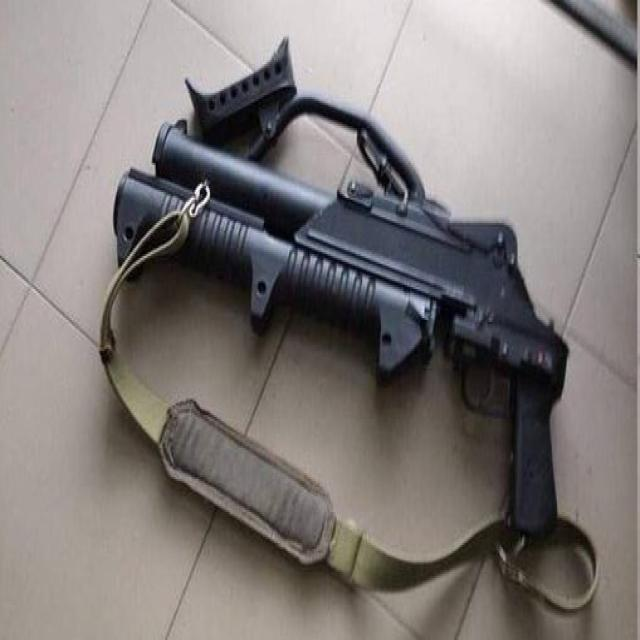Weapon: (115, 51, 570, 536)
